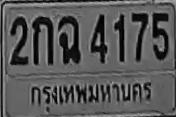1: (114, 14, 124, 62)
2: (10, 16, 28, 64)
4: (90, 13, 107, 63)
5: (152, 12, 168, 60)
7: (132, 12, 148, 61)
A01: (32, 16, 53, 64)
A09: (57, 15, 80, 63)
BKK: (28, 78, 153, 112)
